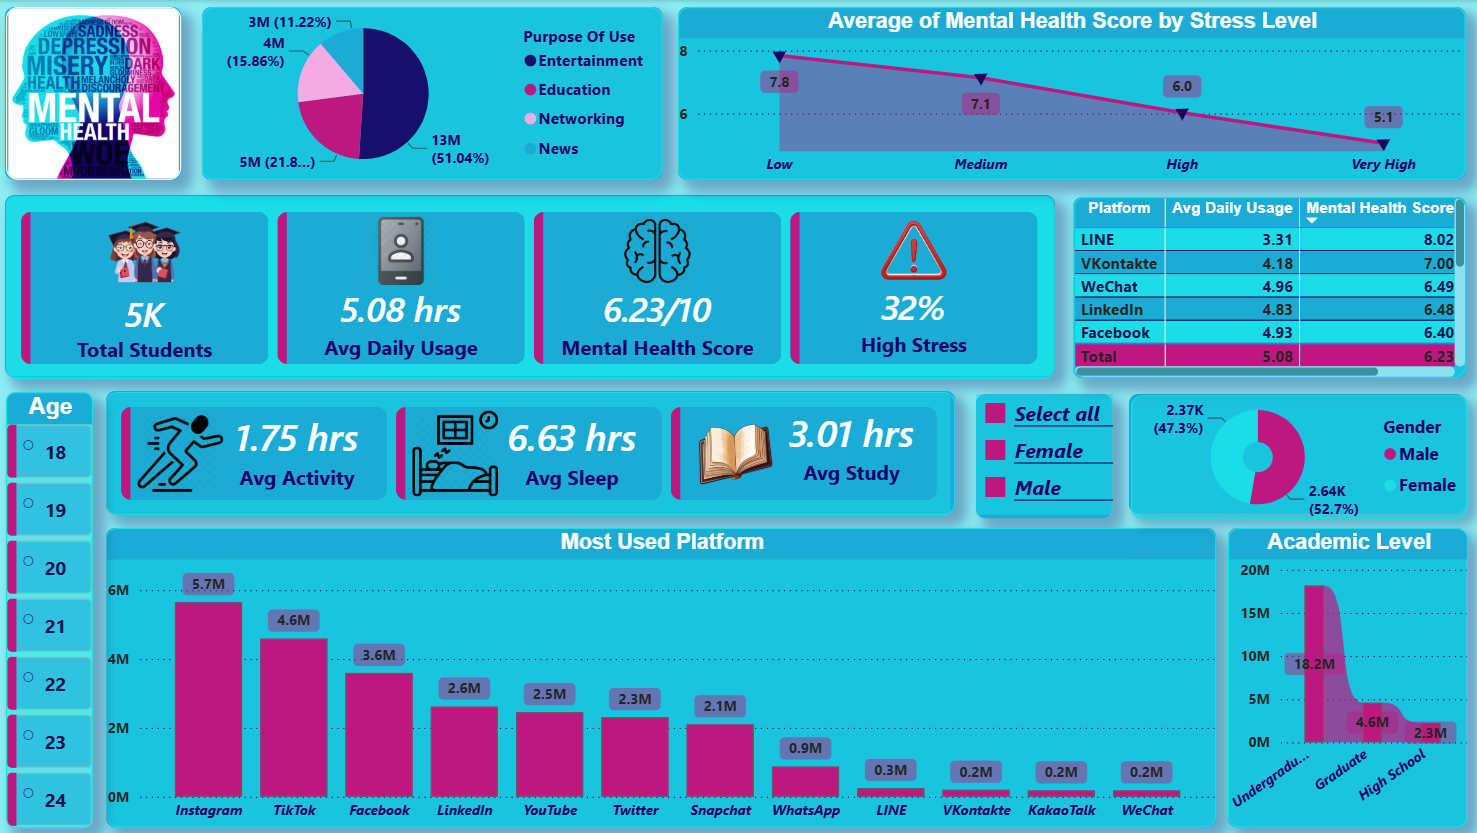

What the dashboard file says about the page in this screenshot:
{"tool":"powerbi","page":{"name":"Page 1","canvas":[1280,720],"ordinal":0},"visuals":[{"type":"shape","box":[6,6,152.4,149.4],"z":0},{"type":"image","box":[7,6,151.4,149.4],"z":1000},{"type":"shape","box":[6,168.4,905.1,157.4],"z":2000},{"type":"cardVisual","fields":{"Data":["Student Social Media And Mental Health Impact.Total Students","Student Social Media And Mental Health Impact.Avg Daily Usage","Student Social Media And Mental Health Impact.Avg Mental Health Score","Student Social Media And Mental Health Impact.High Stress Students"]},"box":[7,169.4,904.1,157.4],"z":3000},{"type":"shape","box":[93.2,336.8,731.7,106.2],"z":4000},{"type":"cardVisual","fields":{"Data":["Student Social Media And Mental Health Impact.Avg Physical Activity","Student Social Media And Mental Health Impact.Avg Sleep Hours","Student Social Media And Mental Health Impact.Avg Study Hours"]},"box":[93.2,337.8,731.7,106.2],"z":5000},{"type":"shape","box":[843,339.8,117.3,107.3],"z":6000},{"type":"slicer","fields":{"Values":["Student Social Media And Mental Health Impact.Gender"]},"box":[843,339.8,118.3,104.2],"z":7000},{"type":"shape","box":[93.2,455.1,957.2,257.6],"z":8000},{"type":"shape","box":[175.4,6,396.9,149.4],"z":9000},{"type":"clusteredColumnChart","title":"Most Used Platform","fields":{"Category":["Student Social Media And Mental Health Impact.Most_Used_Platform"],"Y":["Sum(Student Social Media And Mental Health Impact.students)"]},"box":[93.2,455.1,957.2,257.6],"z":10000},{"type":"shape","box":[975.3,339.8,289.7,103.2],"z":11000},{"type":"pieChart","fields":{"Category":["Student Social Media And Mental Health Impact.Purpose_Of_Use"],"Y":["Sum(Student Social Media And Mental Health Impact.students)"]},"box":[175.4,6,396.9,149.4],"z":12000},{"type":"donutChart","fields":{"Category":["Student Social Media And Mental Health Impact.Gender"],"Y":["CountNonNull(Student Social Media And Mental Health Impact.Stress_Level)"]},"box":[976.2,340.2,291.4,107.2],"z":13000},{"type":"shape","box":[586.4,6,678.6,149.4],"z":14000},{"type":"shape","box":[926.2,169.4,338.8,156.4],"z":15000},{"type":"lineChart","title":"Average of Mental Health Score by Stress Level","fields":{"Category":["Student Social Media And Mental Health Impact.Stress_Level"],"Y":["Avg(Student Social Media And Mental Health Impact.Mental_Health_Score)"]},"box":[586.4,6,678.6,149.4],"z":16000},{"type":"tableEx","fields":{"Values":["Student Social Media And Mental Health Impact.Most_Used_Platform","Student Social Media And Mental Health Impact.Avg Daily Usage","Student Social Media And Mental Health Impact.Mental Health Score","Student Social Media And Mental Health Impact.Avg Sleep"]},"box":[926.2,169.4,338.8,156.4],"z":17000},{"type":"shape","box":[1060.3,455.3,204.6,257.8],"z":17500},{"type":"ribbonChart","title":"Academic Level","fields":{"Category":["Student Social Media And Mental Health Impact.Academic_Level"],"Y":["Sum(Student Social Media And Mental Health Impact.students)"]},"box":[1060.3,455.3,207.3,257.8],"z":18000},{"type":"advancedSlicerVisual","fields":{"Values":["Student Social Media And Mental Health Impact.Age"]},"box":[7.1,337.5,75.3,375.6],"z":19000}]}

Visuals, with their boxes in screenshot pixels (x1, y1, x2, y2), scaled from the page's 1280x720 canvas onto the 1477x833 screenshot:
shape: 7:7:183:180
image: 8:7:183:180
shape: 7:195:1051:377
cardVisual - Student Social Media And Mental Health Impact.Total Students x Student Social Media And Mental Health Impact.Avg Daily Usage: 8:196:1051:378
shape: 108:390:952:513
cardVisual - Student Social Media And Mental Health Impact.Avg Physical Activity x Student Social Media And Mental Health Impact.Avg Sleep Hours: 108:391:952:514
shape: 973:393:1108:517
slicer - Student Social Media And Mental Health Impact.Gender: 973:393:1109:514
shape: 108:527:1212:825
shape: 202:7:660:180
"Most Used Platform" clusteredColumnChart: 108:527:1212:825
shape: 1125:393:1460:513
pieChart - Student Social Media And Mental Health Impact.Purpose_Of_Use x Sum(Student Social Media And Mental Health Impact.students): 202:7:660:180
donutChart - Student Social Media And Mental Health Impact.Gender x CountNonNull(Student Social Media And Mental Health Impact.Stress_Level): 1126:394:1463:518
shape: 677:7:1460:180
shape: 1069:196:1460:377
"Average of Mental Health Score by Stress Level" lineChart: 677:7:1460:180
tableEx - Student Social Media And Mental Health Impact.Most_Used_Platform x Student Social Media And Mental Health Impact.Avg Daily Usage: 1069:196:1460:377
shape: 1223:527:1460:825
"Academic Level" ribbonChart: 1223:527:1463:825
advancedSlicerVisual - Student Social Media And Mental Health Impact.Age: 8:390:95:825
